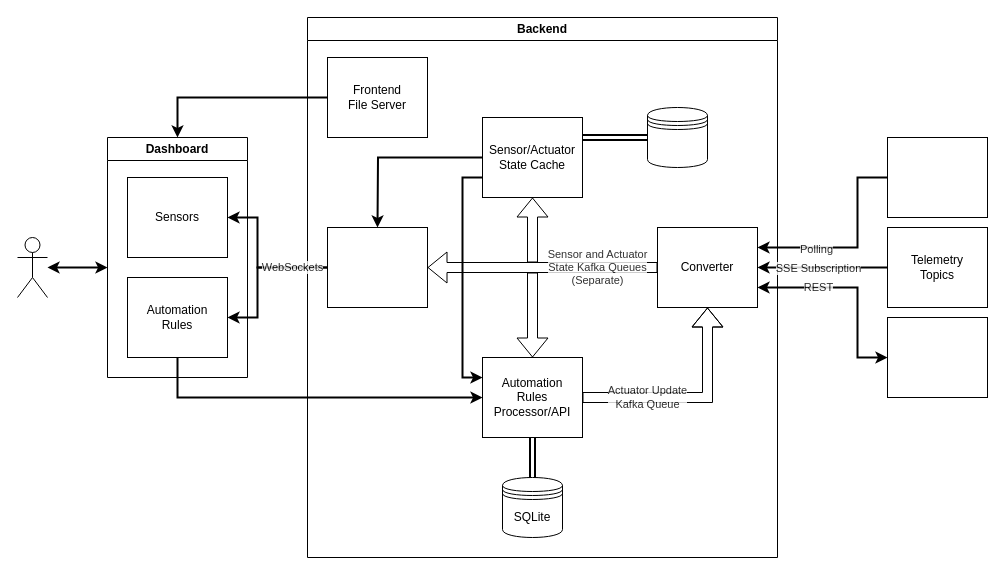
This 1005x575 diagram has some shape labels left out. The centre of each missing label's shape, as x and y in pixels:
Frontend Sensor/Actuator State API: pixel 377 267
Redis Cache: pixel 677 137
REST Actuators: pixel 937 357
REST Sensors: pixel 937 177
User: pixel 32 267
